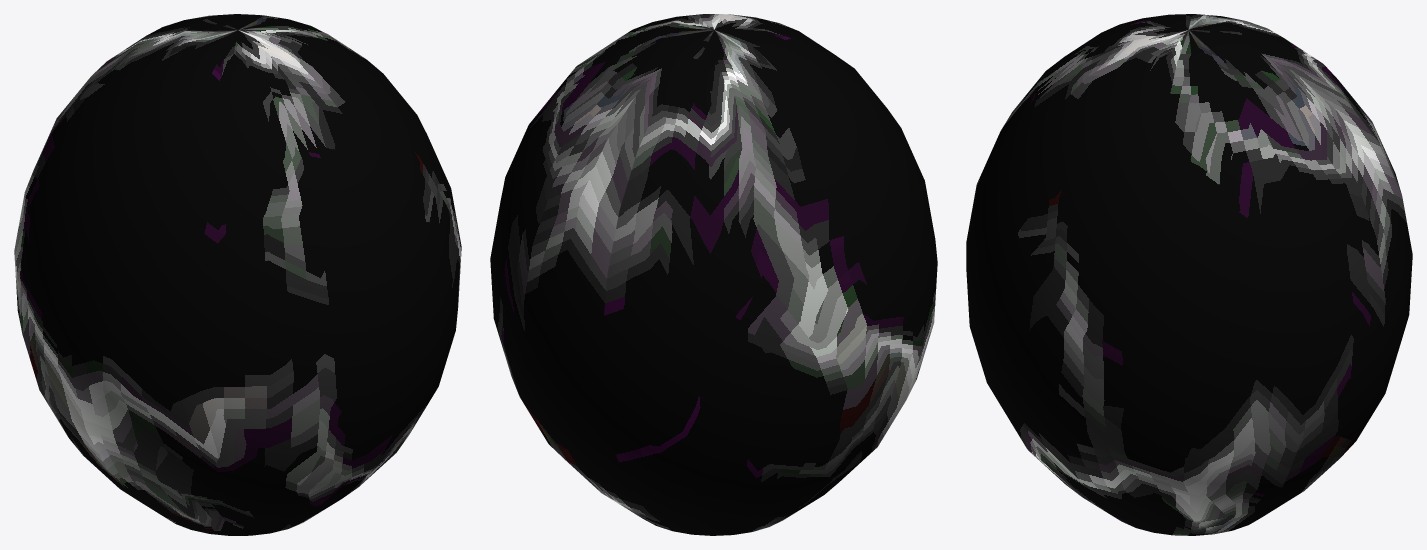
The model's file is qiu_1.FBX.
The picture shows the model from 3 angles, left to right: view 1: azimuth 30°, elevation 25°; view 2: azimuth 150°, elevation 25°; view 3: azimuth 270°, elevation 25°; orthographic projection.
Visible parts, largest first — view 1: Sphere001; view 2: Sphere001; view 3: Sphere001.
Boxes of the visible parts, bbox=[...] form: Sphere001: bbox=[14, 14, 461, 535]; Sphere001: bbox=[490, 14, 937, 535]; Sphere001: bbox=[966, 14, 1412, 535].
Bounding box in the file's own units: 4.44 × 4.43 × 5.16.
